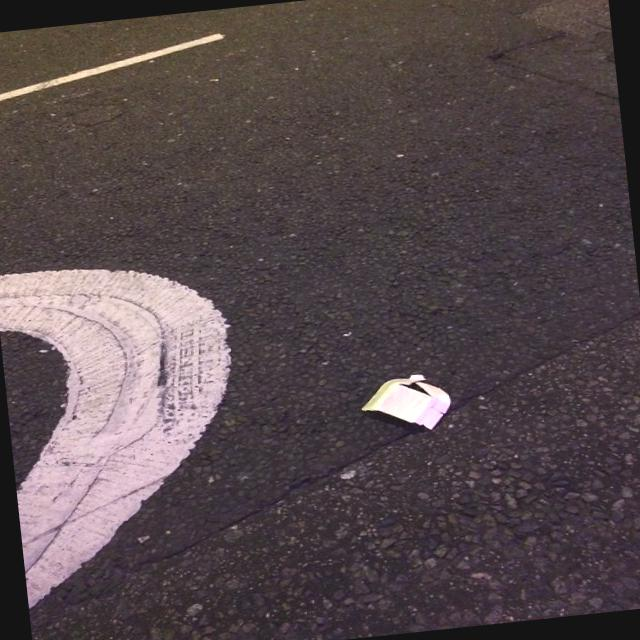Trash: (356, 351, 470, 443)
